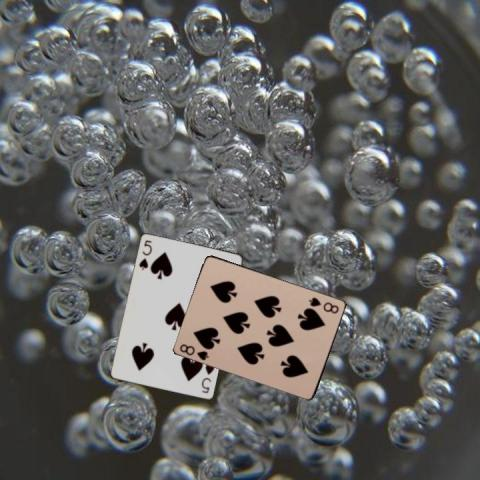5s: (199, 359, 216, 395), (136, 237, 153, 272)
8s: (306, 294, 341, 315), (176, 341, 210, 361)
